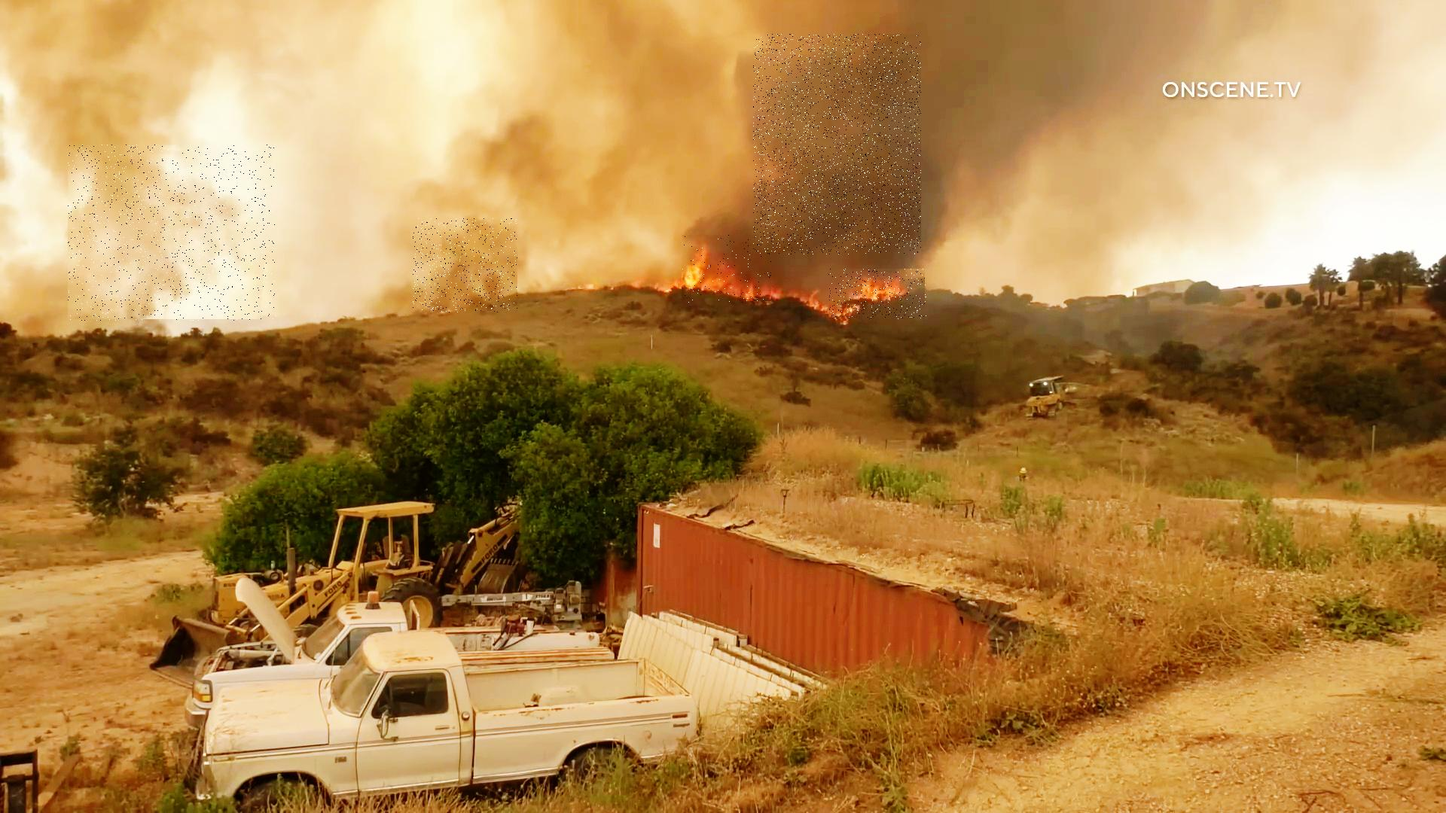fire: (682, 235, 773, 303), (829, 269, 927, 320)
smoke: (753, 34, 921, 255), (68, 145, 276, 321), (413, 218, 517, 312)
